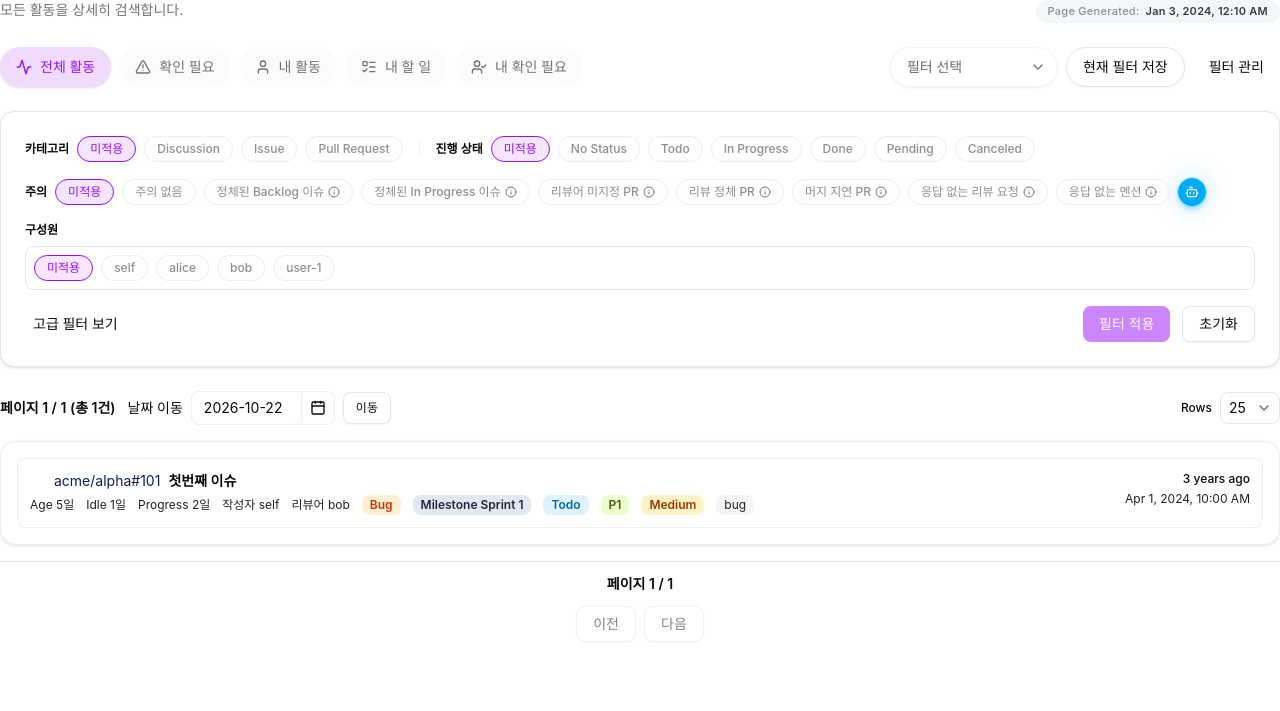
it: ActivityView › highlights unified people filters when OR conditions apply
The width and height of the screenshot is (1280, 711).
Click the button "내 활동" at (288, 67), box [238,47,337,87]
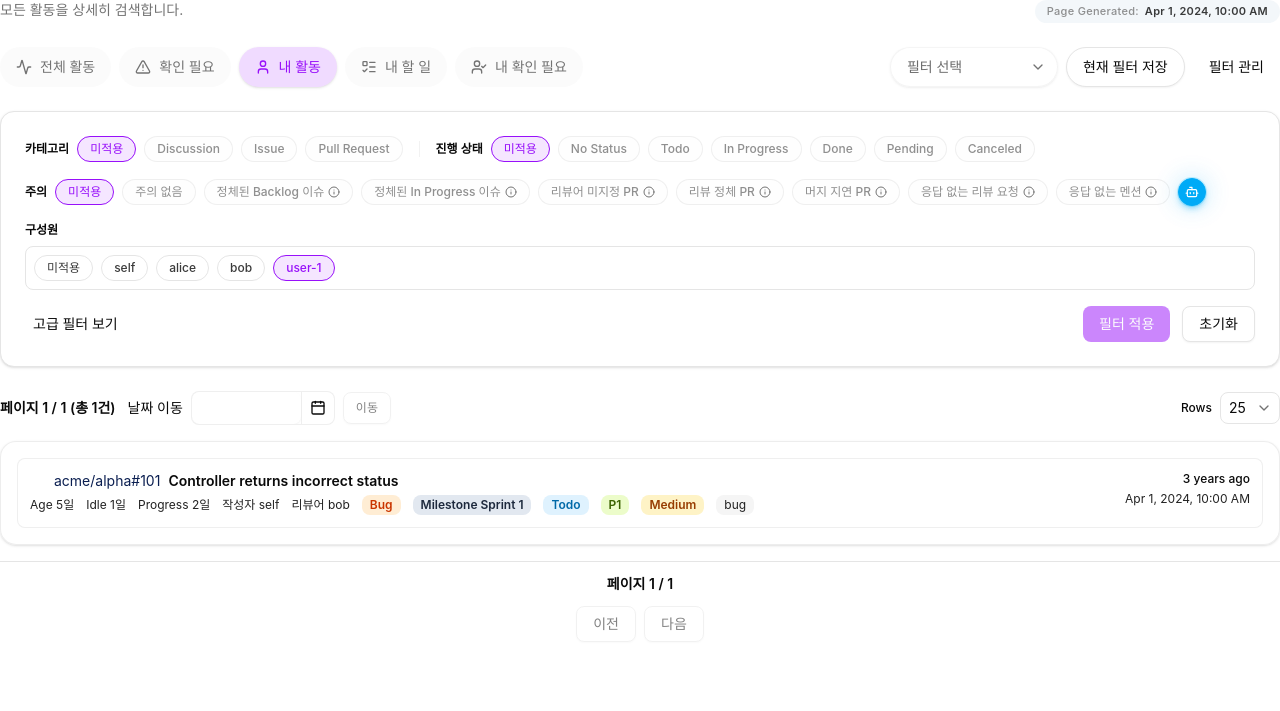
Click the button "고급 필터 보기" at (75, 324), box [25,308,126,340]
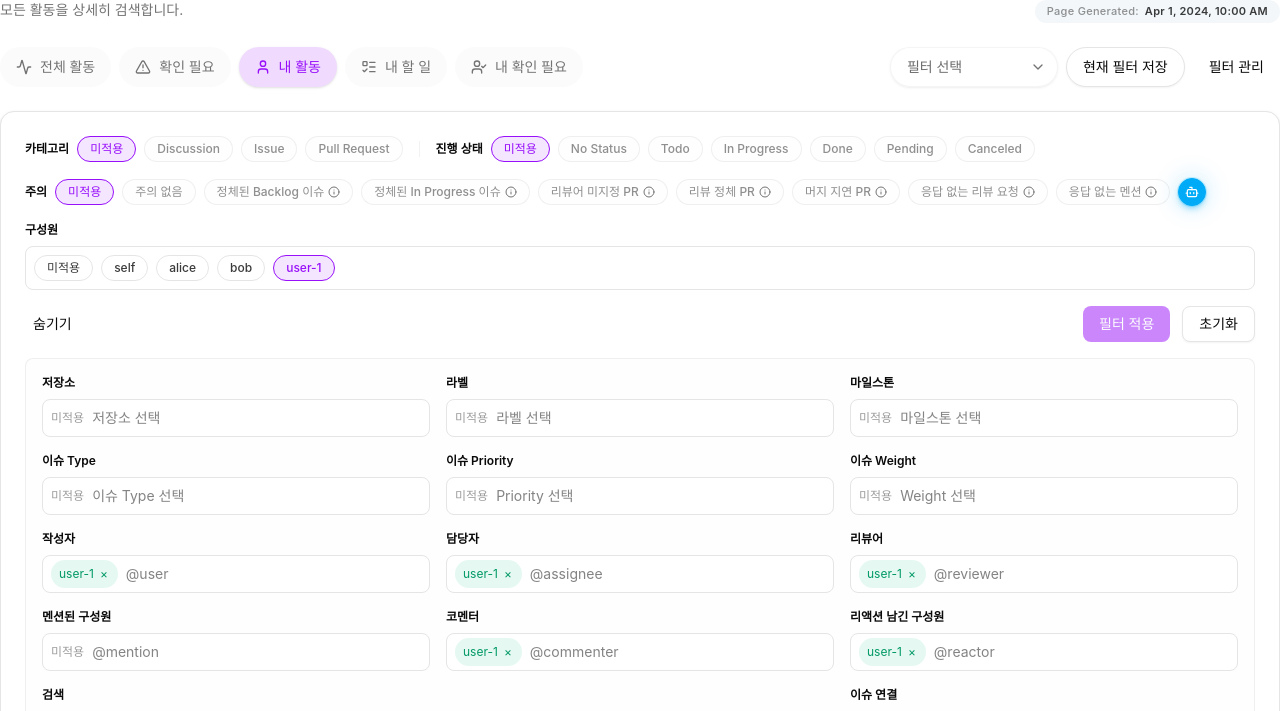
Expected: the button named "Remove user-1" is shown, [98,564,110,584]
